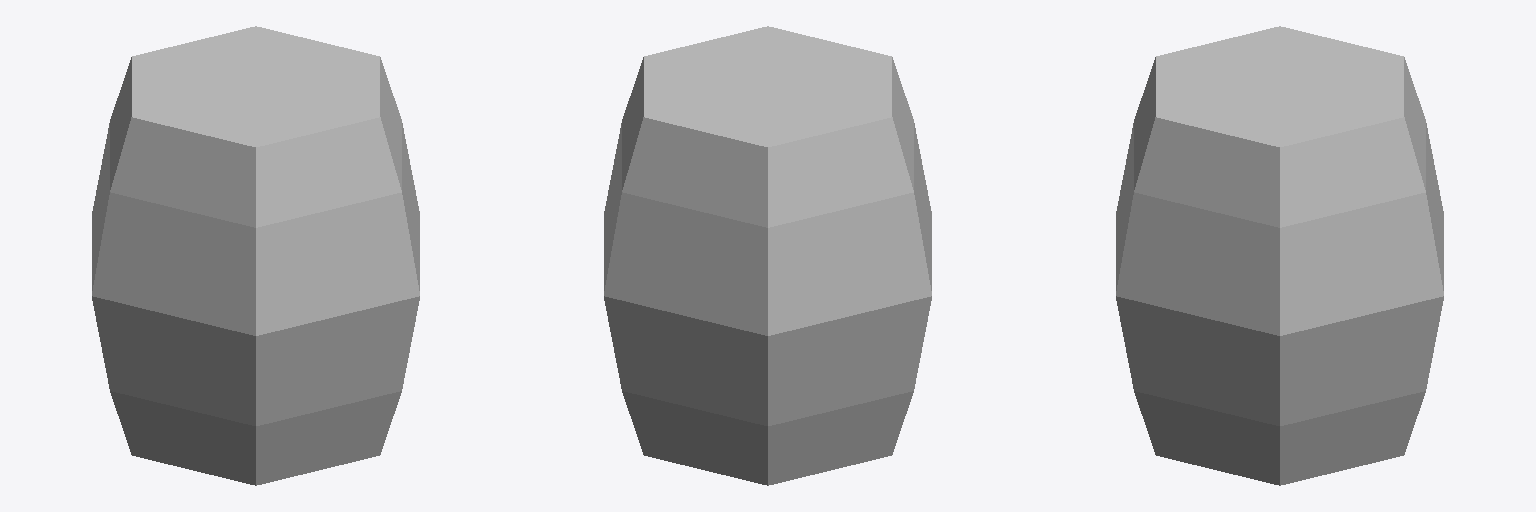
The model's file is barrelUV.obj.
3 renders of one model, left to right at view 1: azimuth 30°, elevation 25°; view 2: azimuth 150°, elevation 25°; view 3: azimuth 270°, elevation 25°, orthographic.
Visible parts, largest first — view 1: house_barral_base_mesh:pCylinder1; view 2: house_barral_base_mesh:pCylinder1; view 3: house_barral_base_mesh:pCylinder1.
Boxes of the visible parts, x1=… form: house_barral_base_mesh:pCylinder1: x1=92, y1=26, x2=419, y2=485; house_barral_base_mesh:pCylinder1: x1=604, y1=26, x2=931, y2=485; house_barral_base_mesh:pCylinder1: x1=1116, y1=26, x2=1443, y2=485.
Bounding box in the file's own units: 6.23 × 6.13 × 5.4.